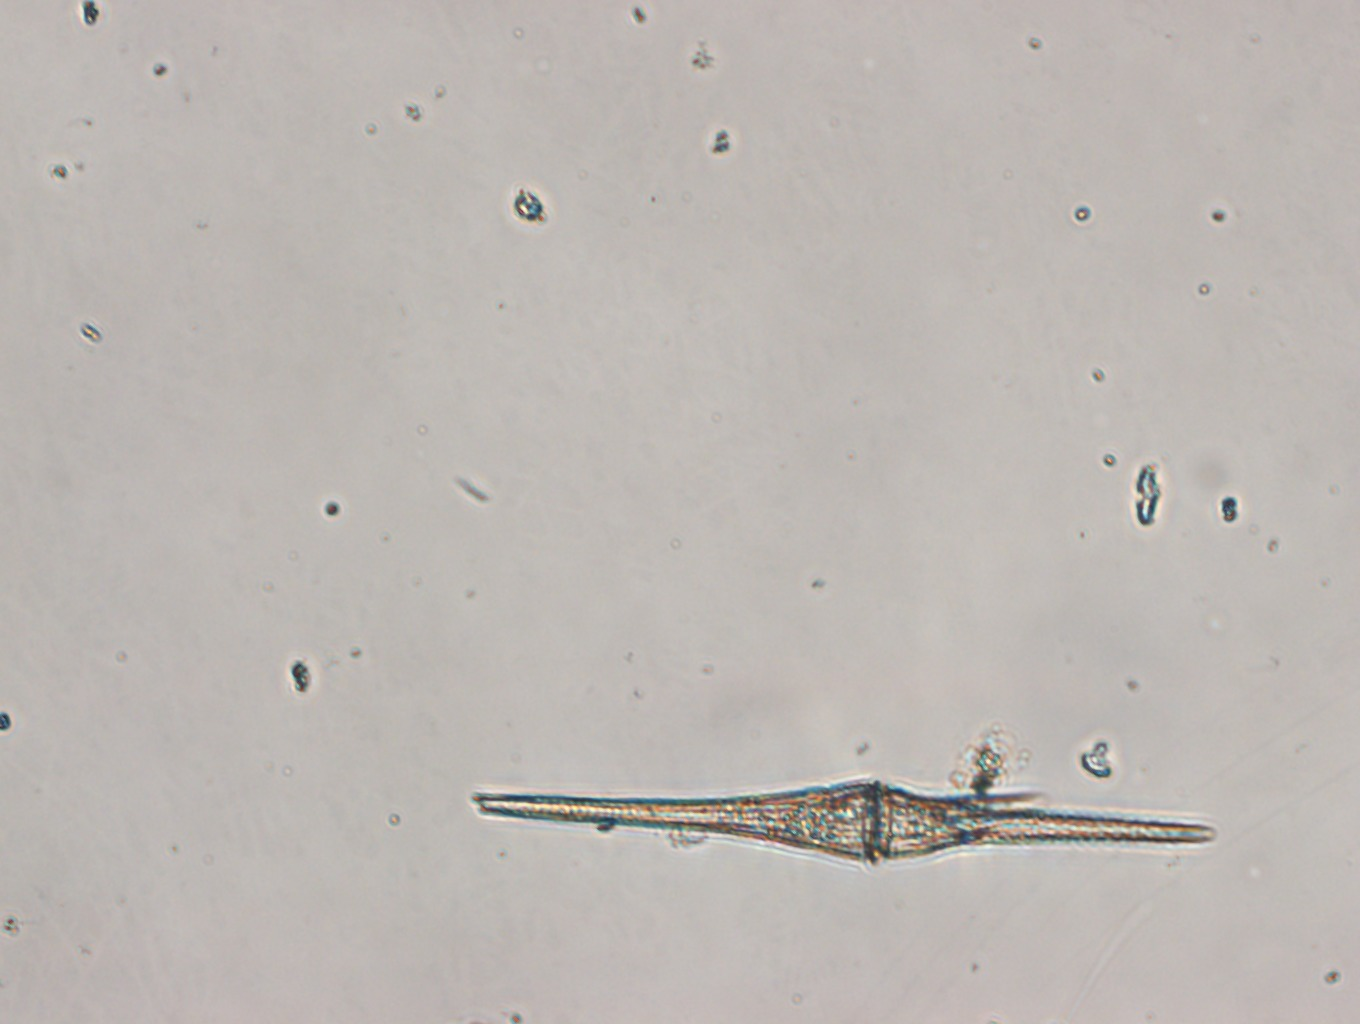ceratium furca: (472, 781, 1215, 864)
